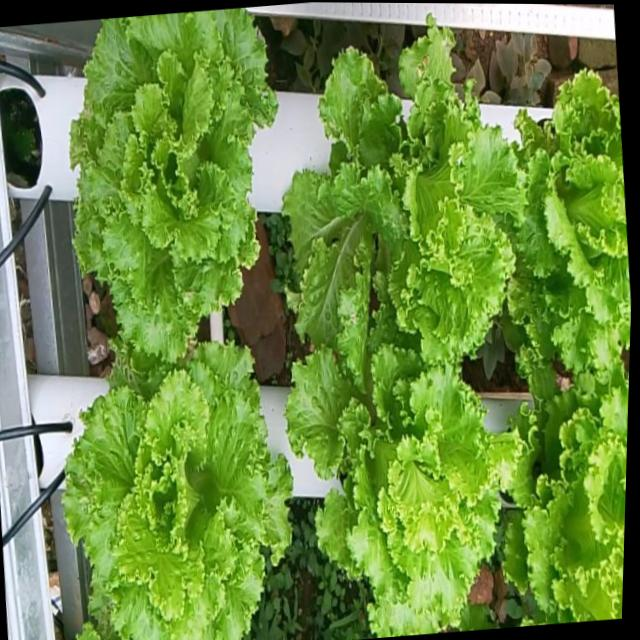Mature: (287, 20, 529, 351), (75, 7, 282, 365), (291, 316, 516, 635), (68, 338, 298, 640), (515, 61, 631, 364), (510, 357, 629, 623)
